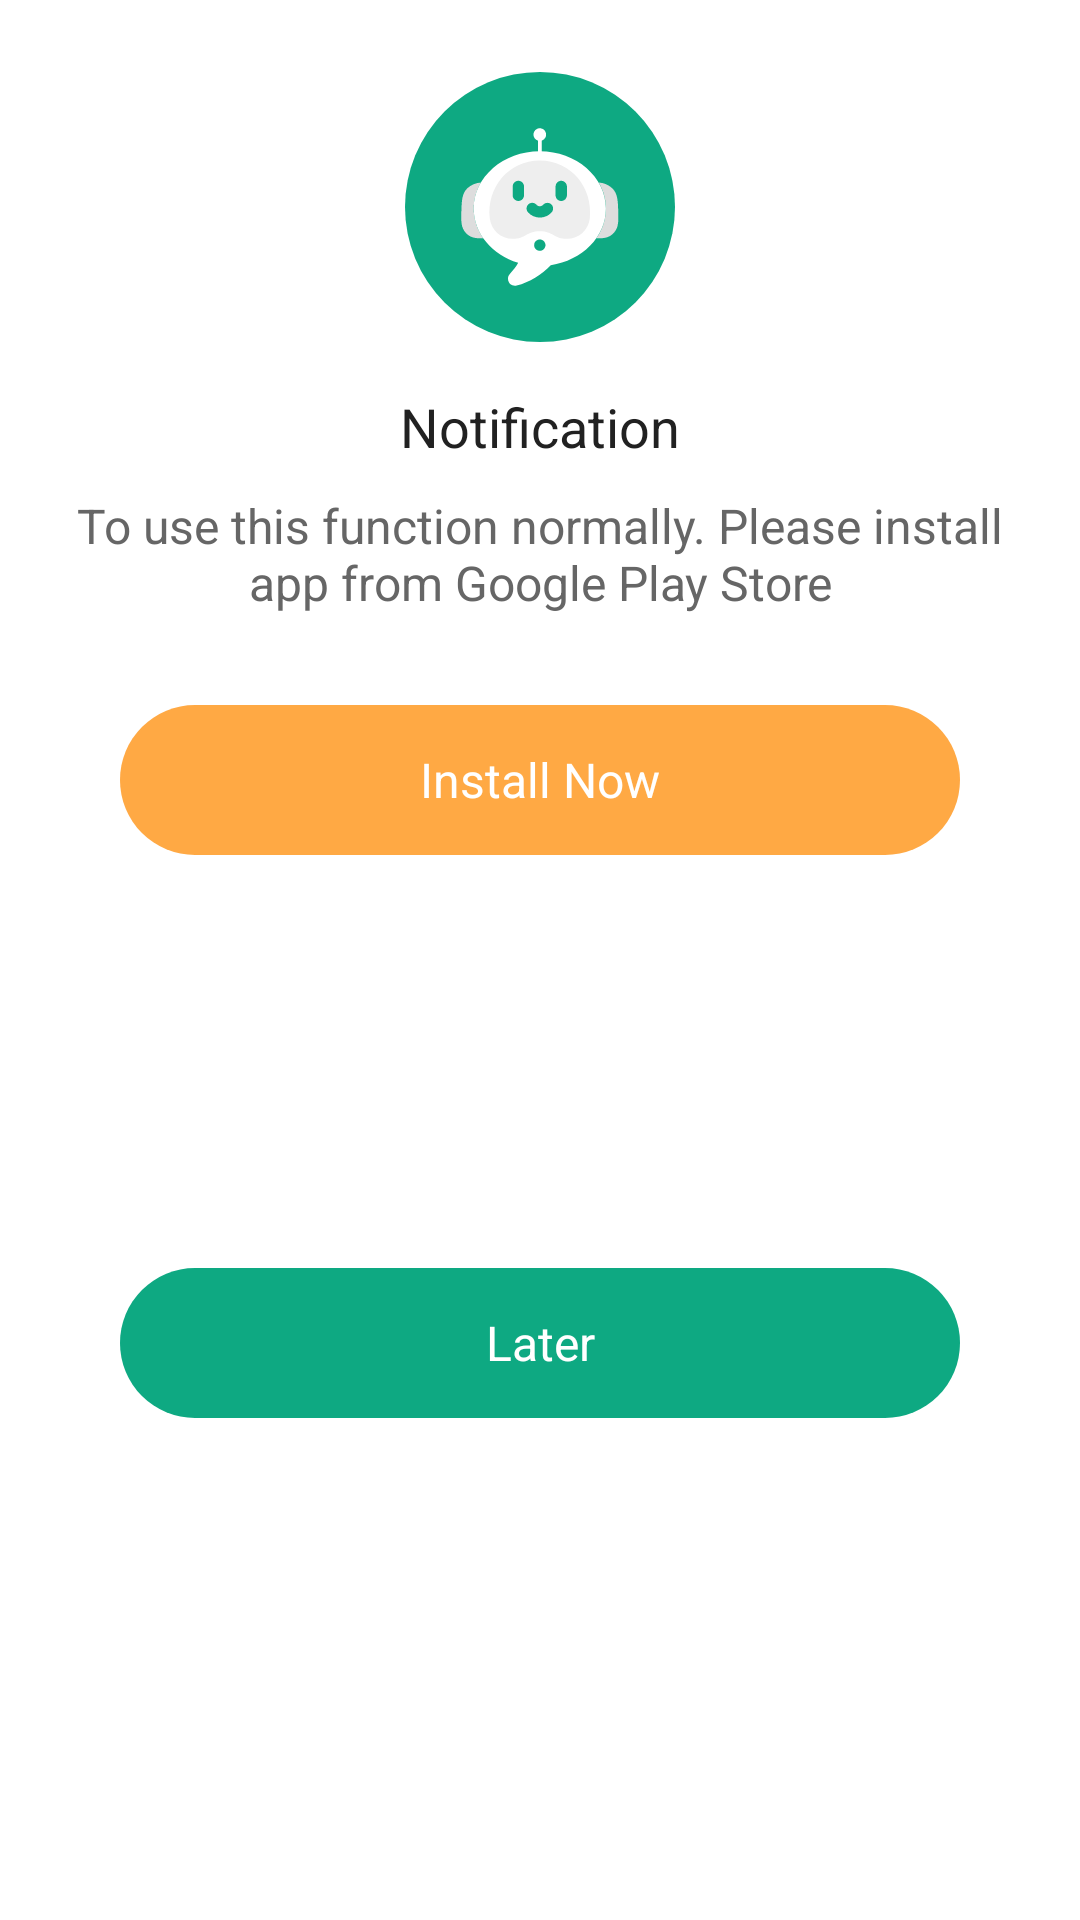

Screen size 1080w x 1920h. Icon name, then its box in pixels as [x1=x1, y1=y1, x2=x2, y2=y2]:
chat bot: [x1=405, y1=72, x2=675, y2=342]
